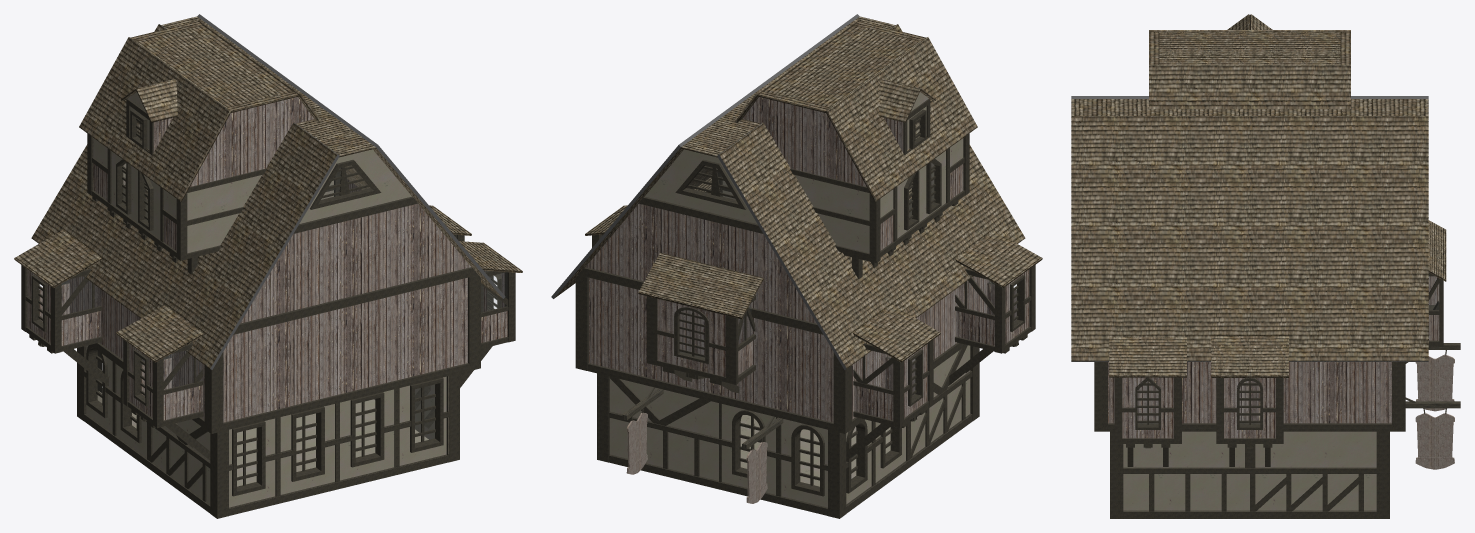
File: Shop.obj
3 views of the same model, side by side, from view 1: azimuth 30°, elevation 25°; view 2: azimuth 150°, elevation 25°; view 3: azimuth 270°, elevation 25° (orthographic).
Size of the model in its own units: 42.84 by 42.94 by 39.23.
8 materials, 6 textured.
